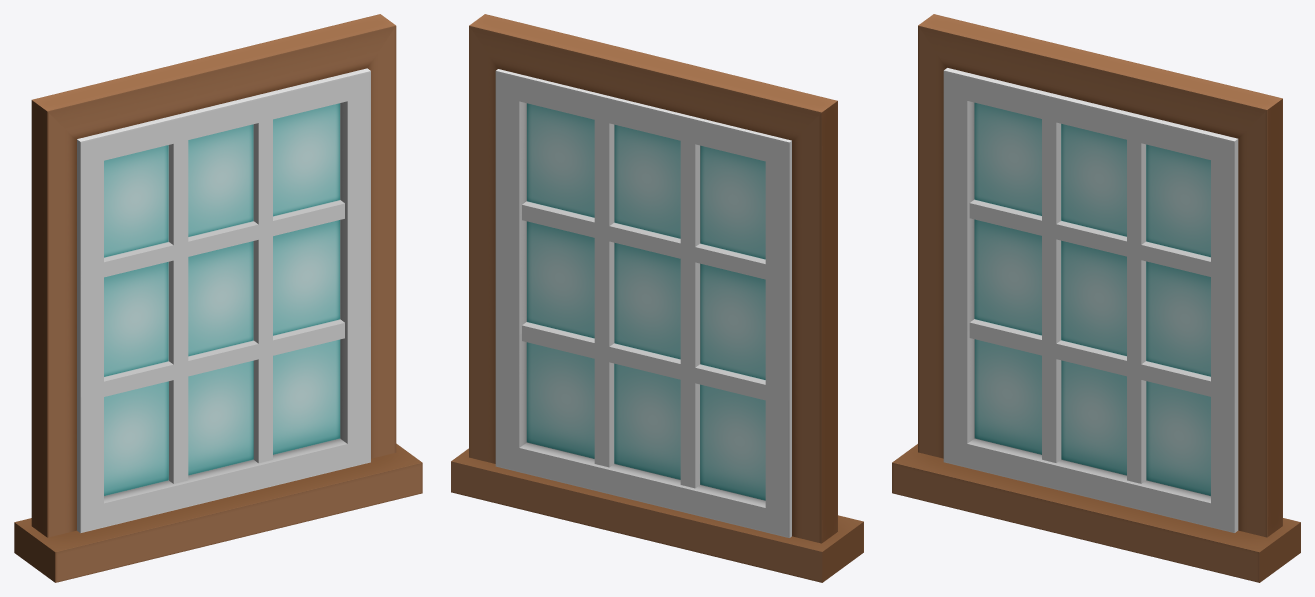
Rendered from window.FBX.
3 renders of one model, left to right at view 1: azimuth 30°, elevation 25°; view 2: azimuth 150°, elevation 25°; view 3: azimuth 330°, elevation 25°, orthographic.
Visible parts, largest first — view 1: window; view 2: window; view 3: window.
Part boxes in pixels (bbox=[...]): window: bbox=[14, 14, 422, 582]; window: bbox=[451, 14, 863, 582]; window: bbox=[892, 14, 1300, 582].
Bounding box in the file's own units: 34.82 × 41.46 × 6.75.
